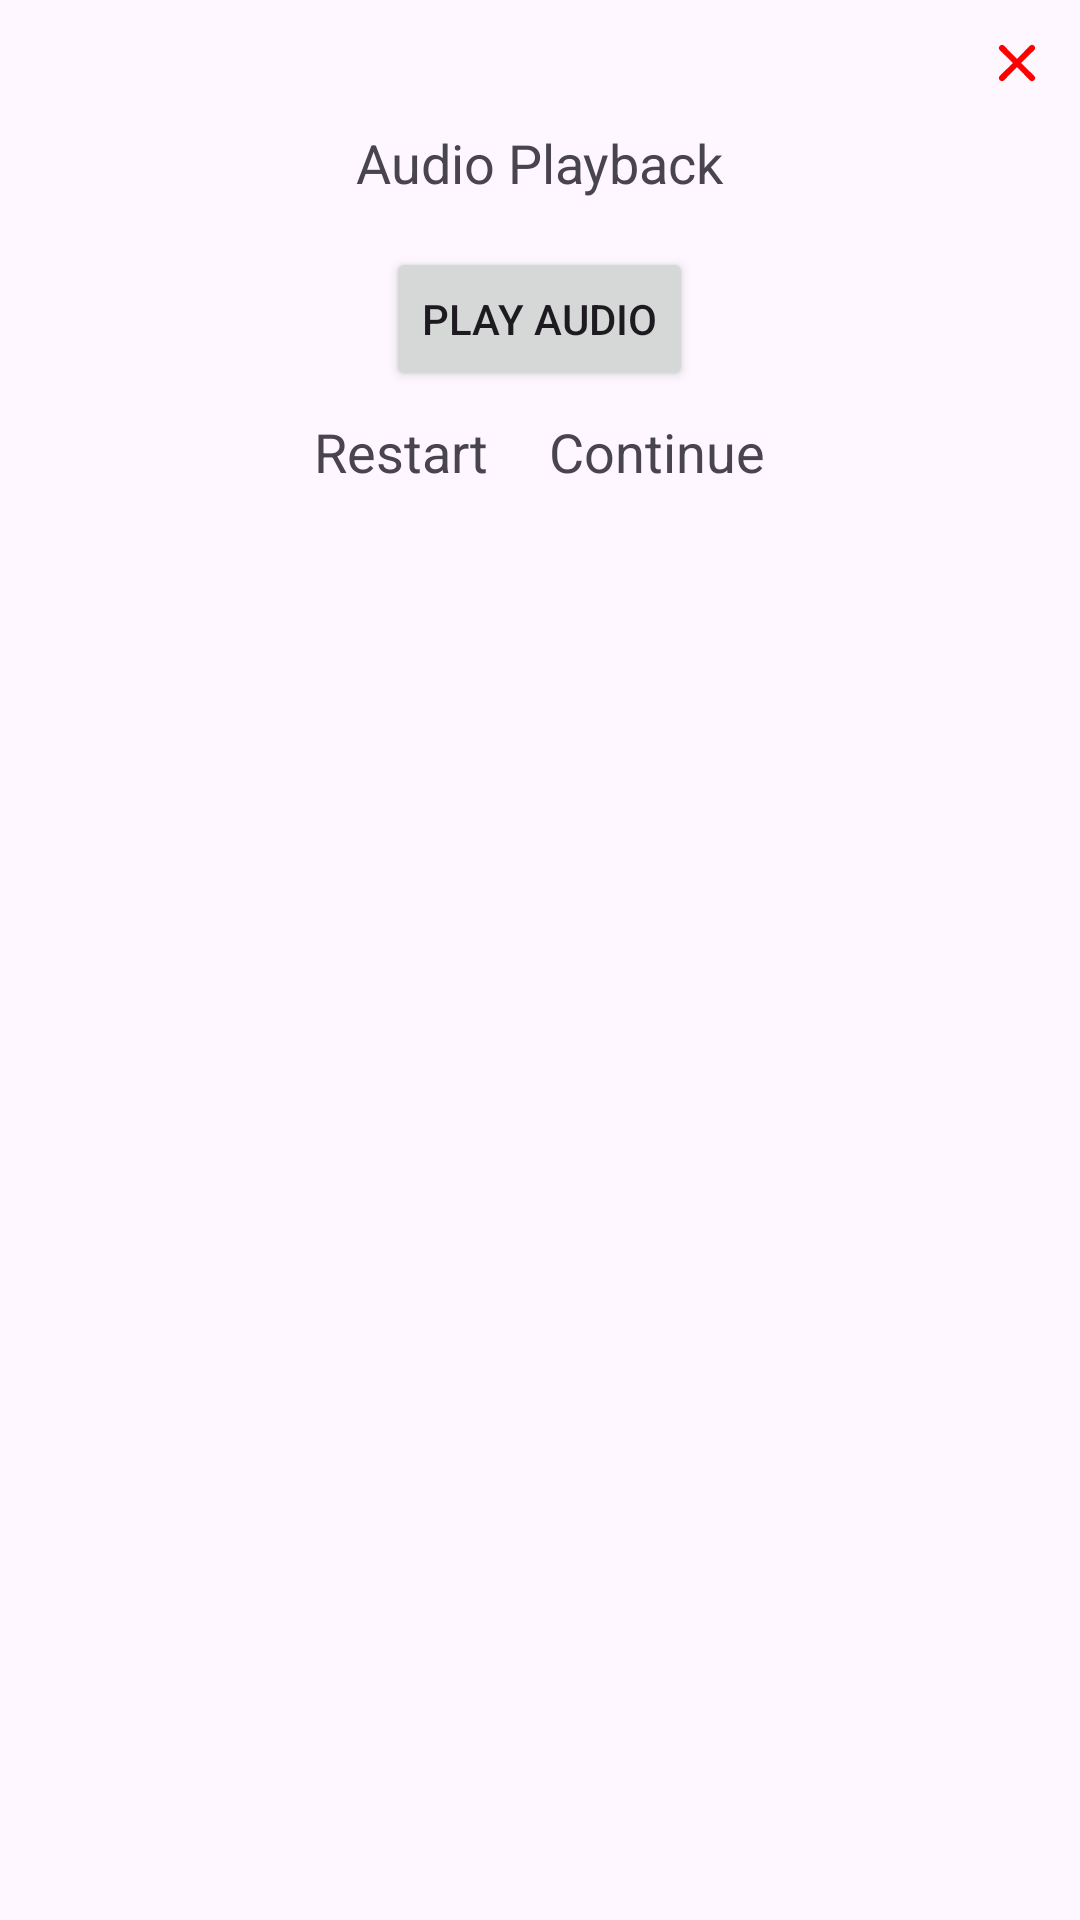

Named icons in this screenshot (1080px x 1920px) and their centers, (x,y):
Cerrar: (1017,63)
